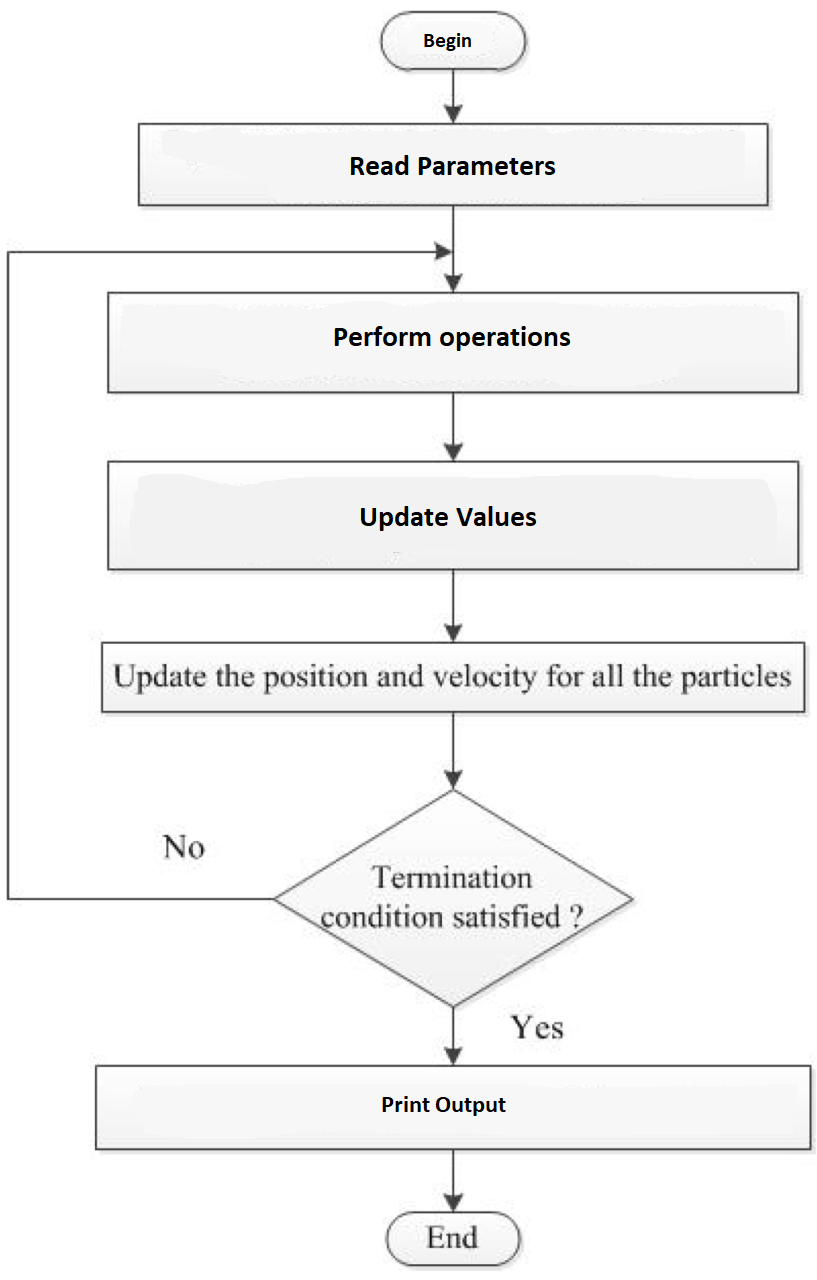arrow: (3, 241, 454, 908), (437, 704, 474, 796), (439, 202, 470, 294), (437, 563, 468, 647), (435, 392, 470, 461), (441, 1143, 468, 1227), (437, 63, 472, 123), (443, 998, 472, 1070)
decision: (268, 790, 639, 1010)
process: (99, 453, 805, 578), (101, 286, 805, 398), (86, 1055, 817, 1155), (133, 115, 776, 214), (97, 635, 817, 719)
terminator: (374, 6, 529, 74), (382, 1204, 525, 1274)
text: (111, 659, 797, 694), (319, 861, 590, 941), (327, 323, 576, 353), (356, 500, 539, 537), (341, 151, 558, 182), (374, 1086, 517, 1121), (421, 1215, 494, 1253), (507, 1004, 570, 1047), (158, 823, 213, 863), (417, 25, 478, 53)
